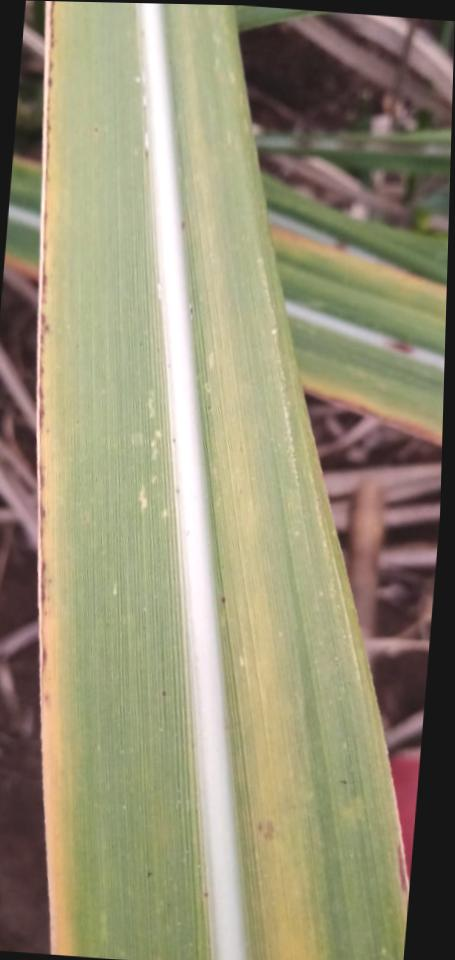Yellow: (33, 1, 77, 955)
